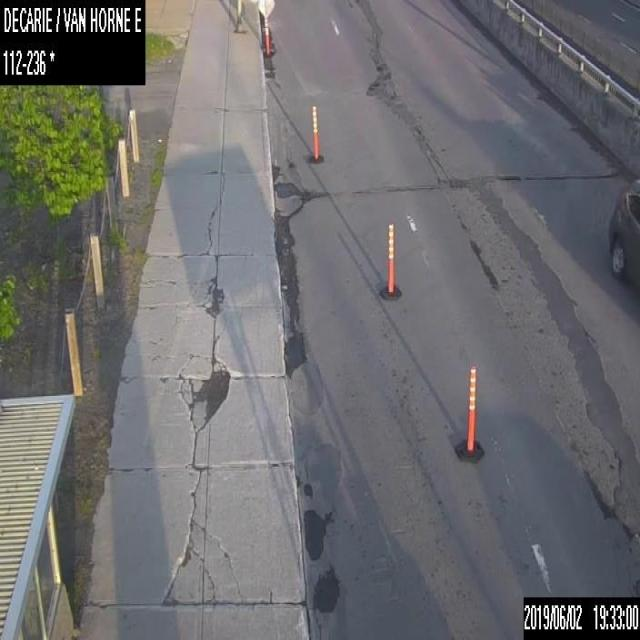construction: (454, 367, 484, 460), (379, 223, 401, 297), (307, 106, 323, 162), (263, 17, 272, 56)
vehicle: (607, 176, 639, 296)
